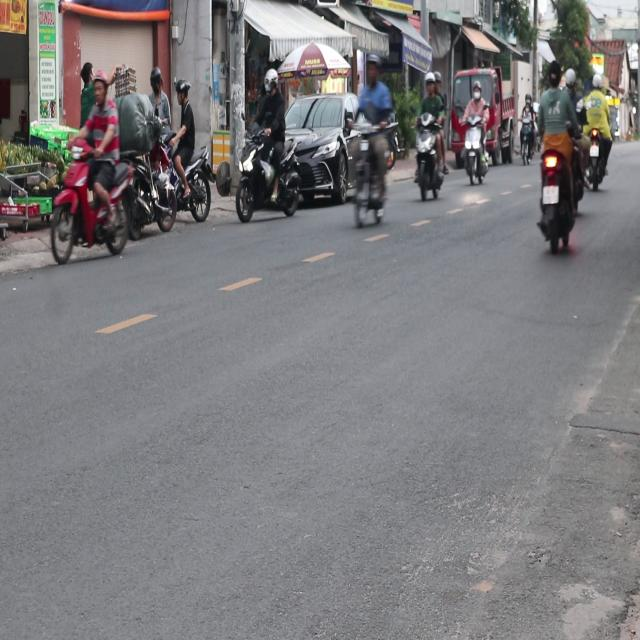helmet: (90, 66, 110, 107), (364, 51, 380, 82), (546, 60, 561, 86), (264, 67, 278, 92), (424, 70, 436, 94), (563, 66, 575, 90)
licenseplate: (46, 62, 136, 267), (235, 65, 298, 224), (534, 59, 584, 253), (347, 51, 394, 230), (411, 69, 448, 201)
nohelmet: (542, 185, 558, 204)
